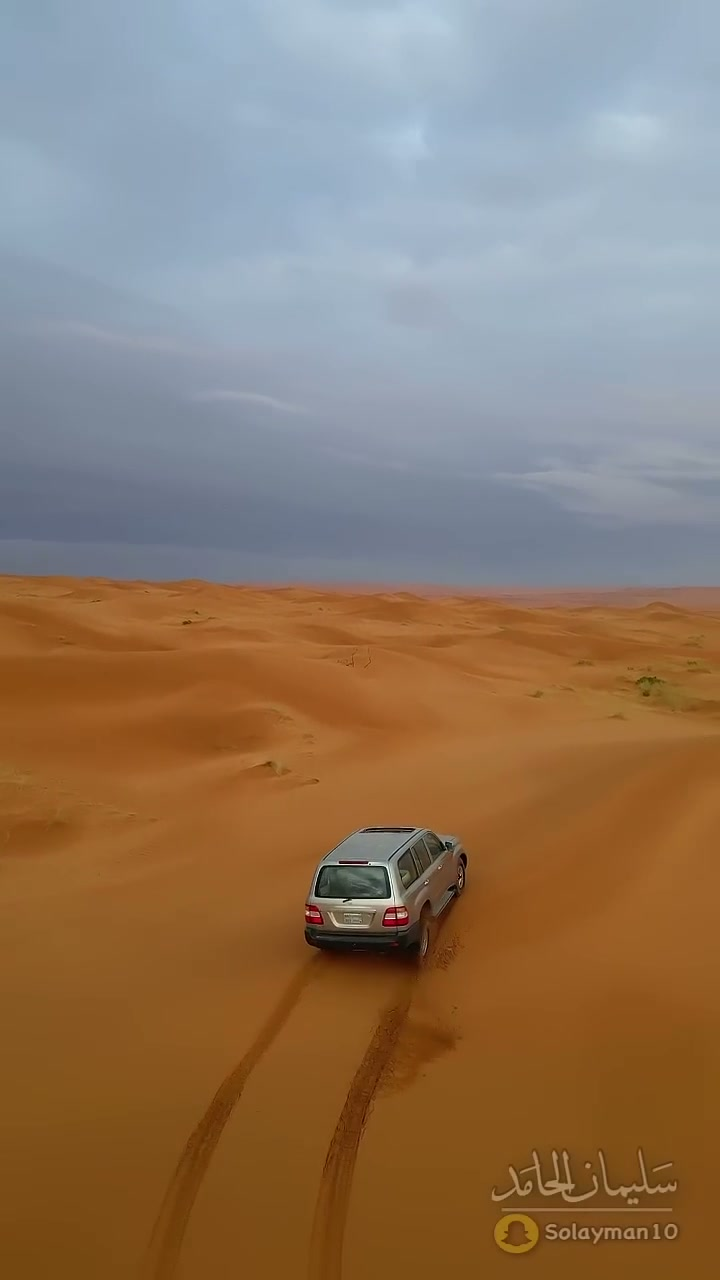vehicle_track: (144, 957, 316, 1279), (307, 980, 413, 1279)
